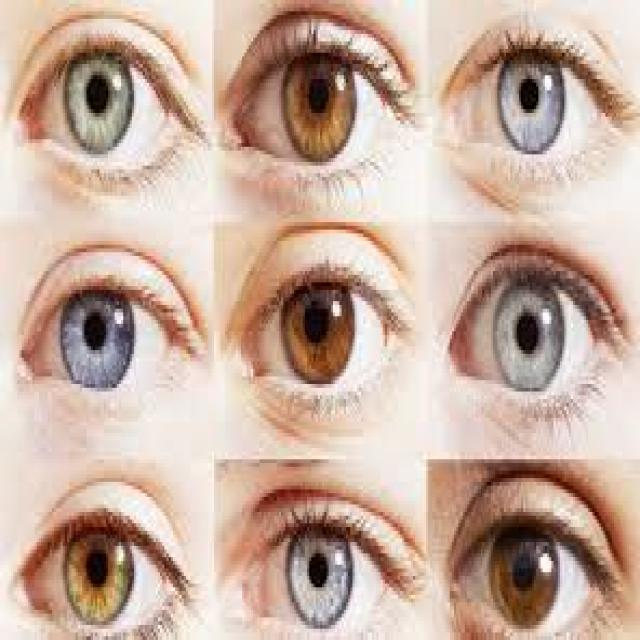Eyes-iris: (277, 41, 359, 172), (51, 274, 139, 394), (62, 39, 136, 168), (275, 275, 360, 383), (488, 282, 568, 393), (487, 515, 562, 630), (282, 514, 356, 630), (63, 518, 136, 634), (492, 49, 570, 153)
